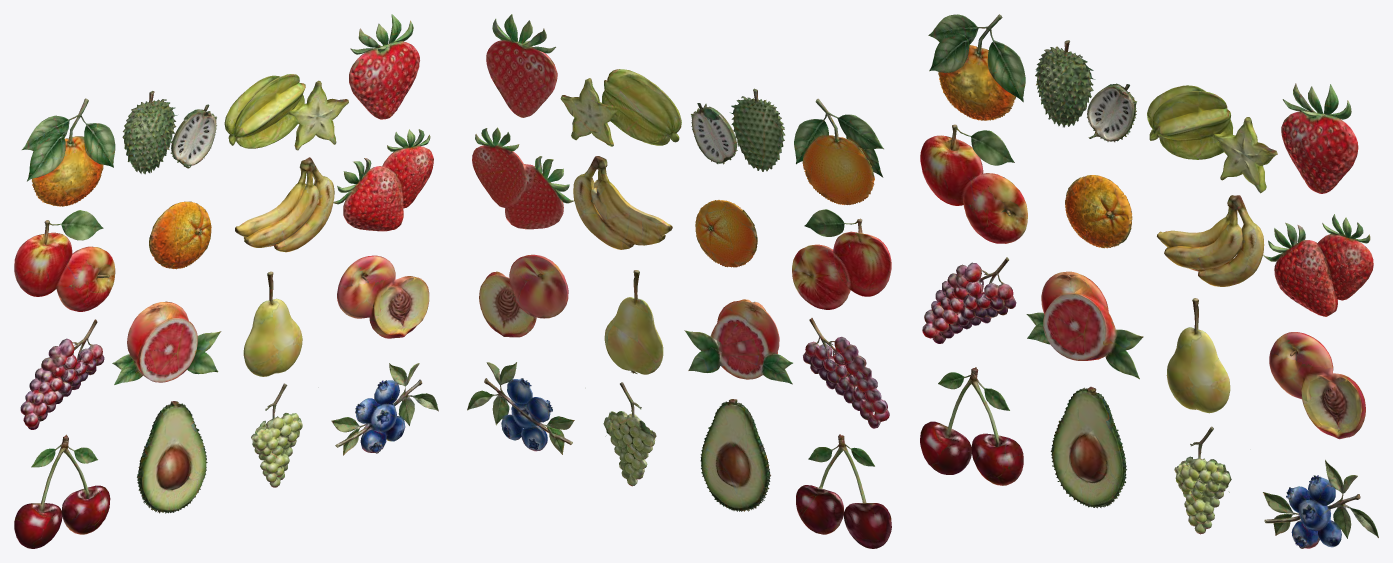
3 views of the same model, side by side, from view 1: azimuth 30°, elevation 25°; view 2: azimuth 150°, elevation 25°; view 3: azimuth 330°, elevation 25° (orthographic). The views are drawn at different scales.
Visible parts, largest first — view 1: Mesh 1, Mesh 10, Mesh 4, Mesh 17, Mesh 8, Mesh 5, Mesh 14, Mesh 15, Mesh 2, Mesh 16, Mesh 13, Mesh 3 (+5 smaller); view 2: Mesh 1, Mesh 10, Mesh 4, Mesh 17, Mesh 8, Mesh 5, Mesh 14, Mesh 15, Mesh 2, Mesh 16, Mesh 13, Mesh 3 (+5 smaller); view 3: Mesh 1, Mesh 10, Mesh 4, Mesh 17, Mesh 8, Mesh 5, Mesh 14, Mesh 15, Mesh 2, Mesh 16, Mesh 13, Mesh 3 (+5 smaller).
Boxes of the visible parts, bbox=[...] form: Mesh 1: bbox=[14, 210, 115, 311]; Mesh 10: bbox=[224, 74, 348, 150]; Mesh 4: bbox=[22, 98, 115, 206]; Mesh 17: bbox=[333, 129, 433, 231]; Mesh 8: bbox=[137, 401, 207, 513]; Mesh 5: bbox=[112, 301, 221, 384]; Mesh 14: bbox=[337, 255, 429, 338]; Mesh 15: bbox=[349, 14, 419, 119]; Mesh 2: bbox=[14, 434, 110, 548]; Mesh 16: bbox=[235, 157, 334, 252]; Mesh 13: bbox=[331, 363, 438, 455]; Mesh 3: bbox=[20, 319, 104, 429]; Mesh 1: bbox=[792, 209, 891, 309]; Mesh 10: bbox=[560, 69, 681, 146]; Mesh 4: bbox=[794, 98, 883, 204]; Mesh 17: bbox=[472, 127, 573, 229]; Mesh 8: bbox=[700, 399, 770, 511]; Mesh 5: bbox=[684, 299, 792, 384]; Mesh 14: bbox=[479, 254, 568, 337]; Mesh 15: bbox=[486, 14, 557, 117]; Mesh 2: bbox=[796, 434, 891, 548]; Mesh 16: bbox=[573, 156, 672, 249]; Mesh 13: bbox=[467, 362, 574, 454]; Mesh 3: bbox=[803, 318, 889, 428]; Mesh 1: bbox=[920, 124, 1027, 243]; Mesh 10: bbox=[1147, 85, 1277, 193]; Mesh 4: bbox=[928, 14, 1025, 120]; Mesh 17: bbox=[1263, 214, 1373, 316]; Mesh 8: bbox=[1050, 386, 1126, 508]; Mesh 5: bbox=[1026, 271, 1143, 379]; Mesh 14: bbox=[1269, 332, 1365, 439]; Mesh 15: bbox=[1281, 83, 1358, 193]; Mesh 2: bbox=[920, 367, 1023, 485]; Mesh 16: bbox=[1157, 195, 1264, 286]; Mesh 13: bbox=[1263, 459, 1378, 548]; Mesh 3: bbox=[922, 257, 1016, 343].
Bounding box in the file's own units: 1.89 × 1.9 × 0.0928.
Materials: 17 (17 with a texture image).
